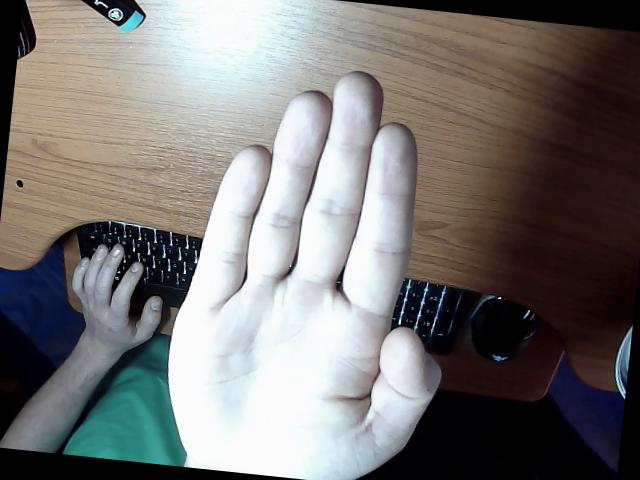paper: (169, 73, 439, 480)
